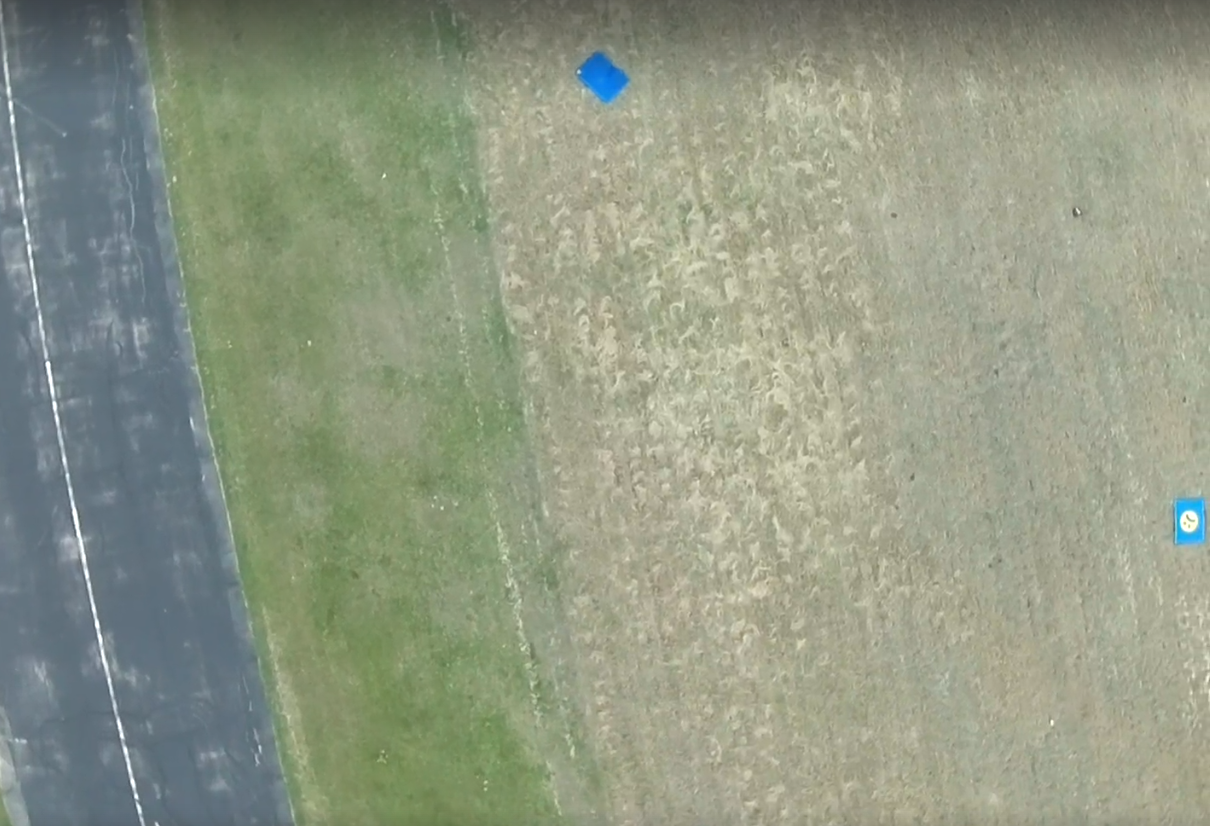CRT: (1178, 509, 1200, 533)
TOI: (572, 50, 633, 106), (1171, 494, 1208, 547)
